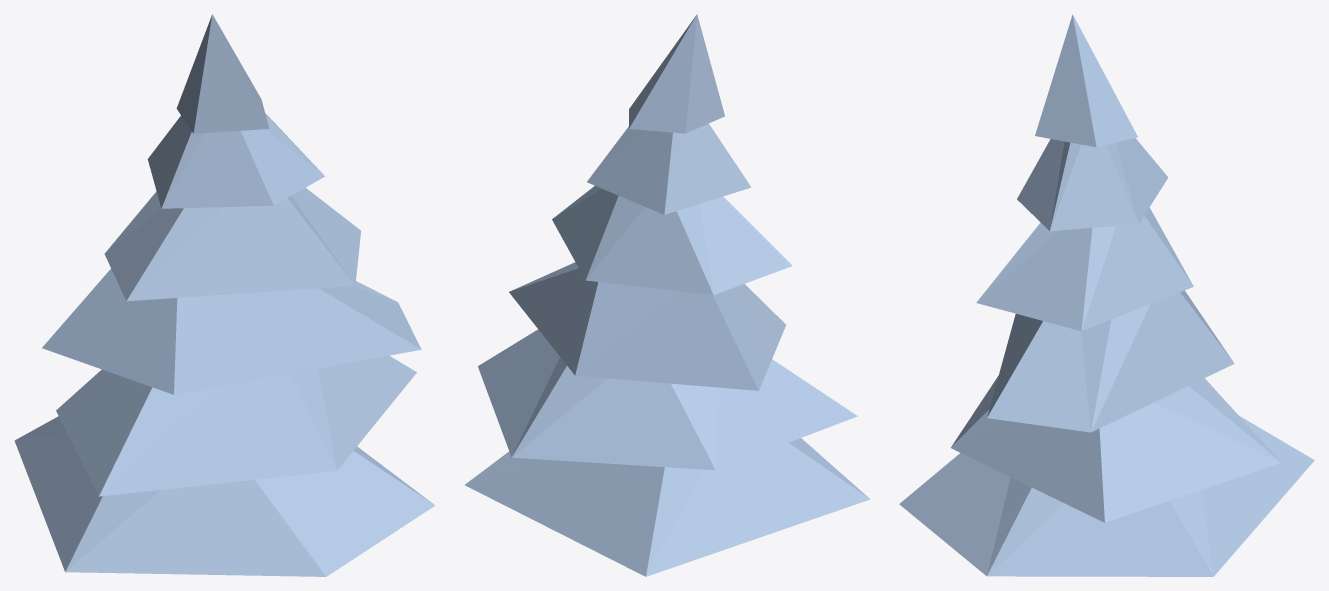
The model's file is Elka.fbx.
The picture shows the model from 3 angles, left to right: view 1: azimuth 30°, elevation 25°; view 2: azimuth 150°, elevation 25°; view 3: azimuth 270°, elevation 25°; orthographic projection. The views are drawn at different scales.
Visible parts, largest first — view 1: Object_58; view 2: Object_58; view 3: Object_58.
Boxes of the visible parts, x1,y1,x2,y2 form: Object_58: (14, 14, 434, 576); Object_58: (465, 14, 870, 576); Object_58: (899, 14, 1314, 576).
Bounding box in the file's own units: 2363 × 2910 × 2287.
